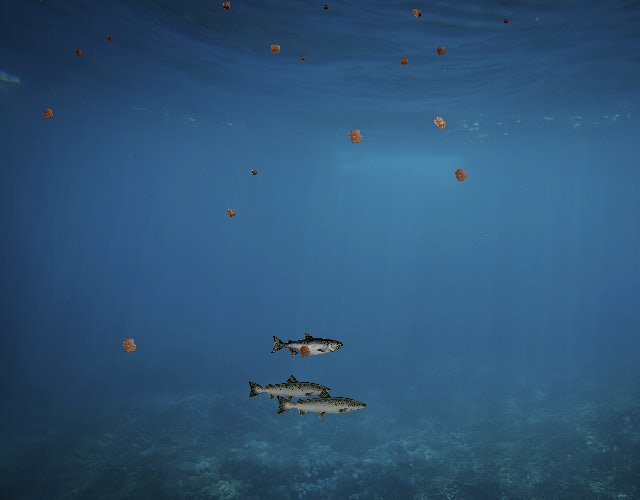Fish: (275, 388, 369, 421), (246, 373, 332, 404), (270, 332, 343, 359)
Pellet: (115, 332, 143, 360), (426, 109, 453, 136), (448, 162, 473, 188), (294, 340, 316, 362), (222, 204, 240, 222), (248, 166, 260, 178)
